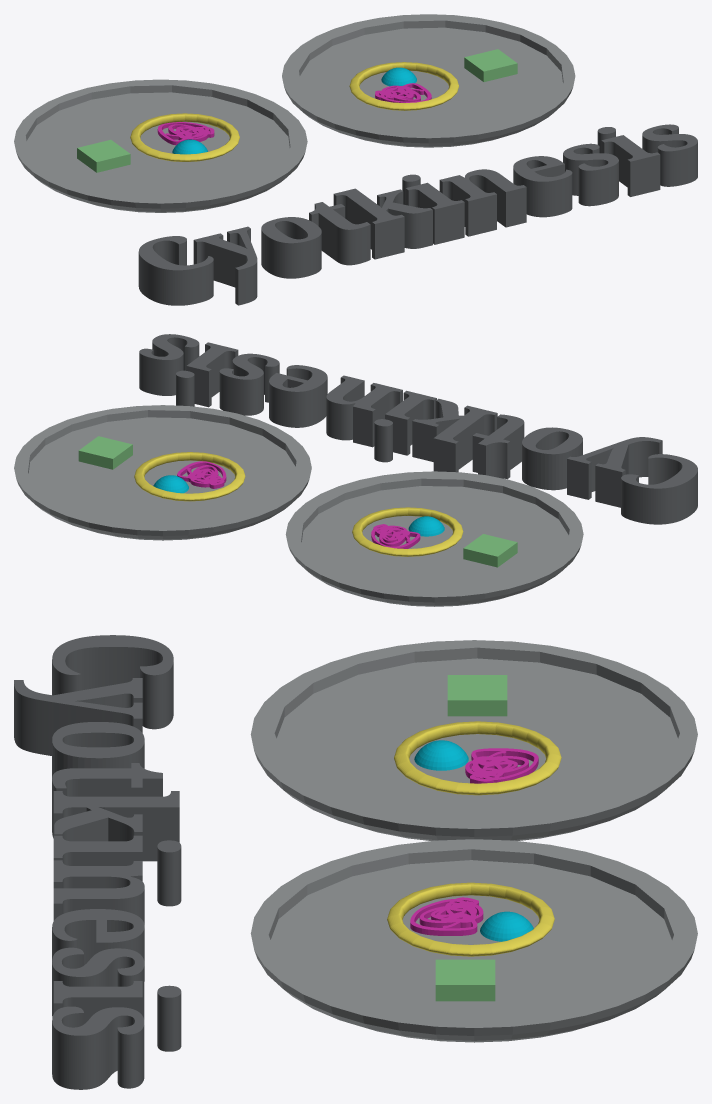
Rendered from Cytokinesis.glb.
3 renders of one model, top to bottom at view 1: azimuth 30°, elevation 25°; view 2: azimuth 150°, elevation 25°; view 3: azimuth 270°, elevation 25°, orthographic. The views are drawn at different scales.
Visible parts, largest first — view 1: Mesh_Mesh_head_geo.001_lambert2SG.001; view 2: Mesh_Mesh_head_geo.001_lambert2SG.001; view 3: Mesh_Mesh_head_geo.001_lambert2SG.001.
Boxes of the visible parts, box(x1,y1,x2,y2) form: Mesh_Mesh_head_geo.001_lambert2SG.001: box(14, 14, 697, 305); Mesh_Mesh_head_geo.001_lambert2SG.001: box(14, 334, 697, 606); Mesh_Mesh_head_geo.001_lambert2SG.001: box(14, 635, 697, 1089).
Bounding box in the file's own units: 159 × 11 × 115.
